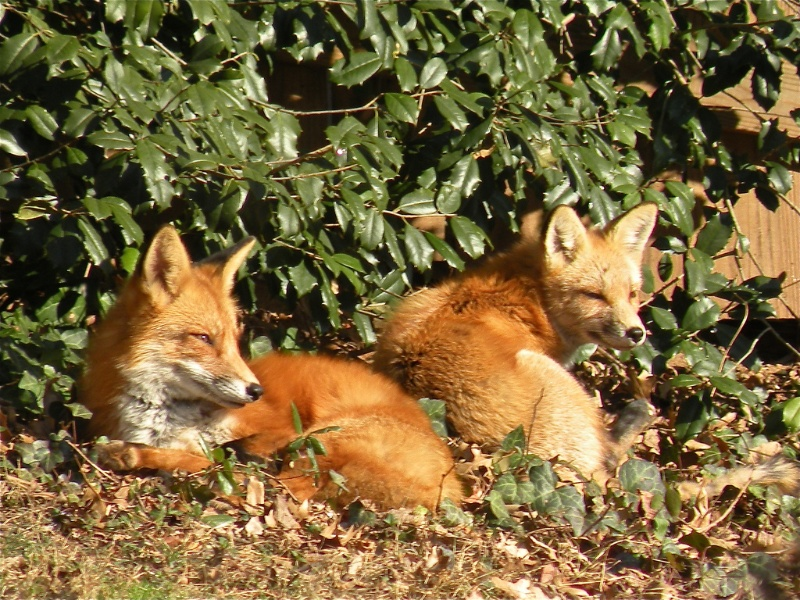fox: (81, 221, 472, 535), (375, 196, 671, 500)
